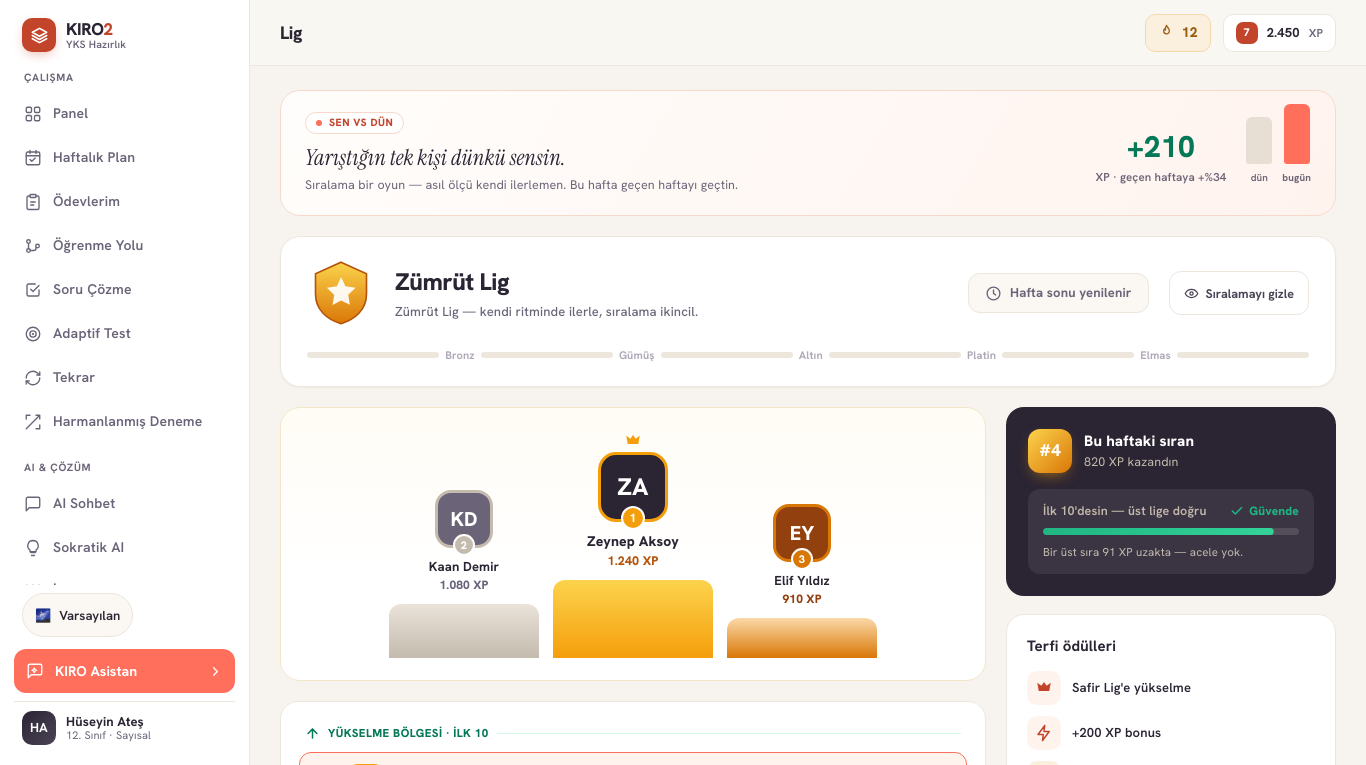
Test: LigPage › toggle: sıralamayı gizle → gizli-durum kartı + standings gizlenir + aria-live duyuru
This screenshot has width=1366, height=765.
Check: the text "Zeynep Aksoy" is shown, box [587,532,679,550]
Click the button "Sıralamayı gizle". click: (1239, 293)
box: [1168,271,1309,315]
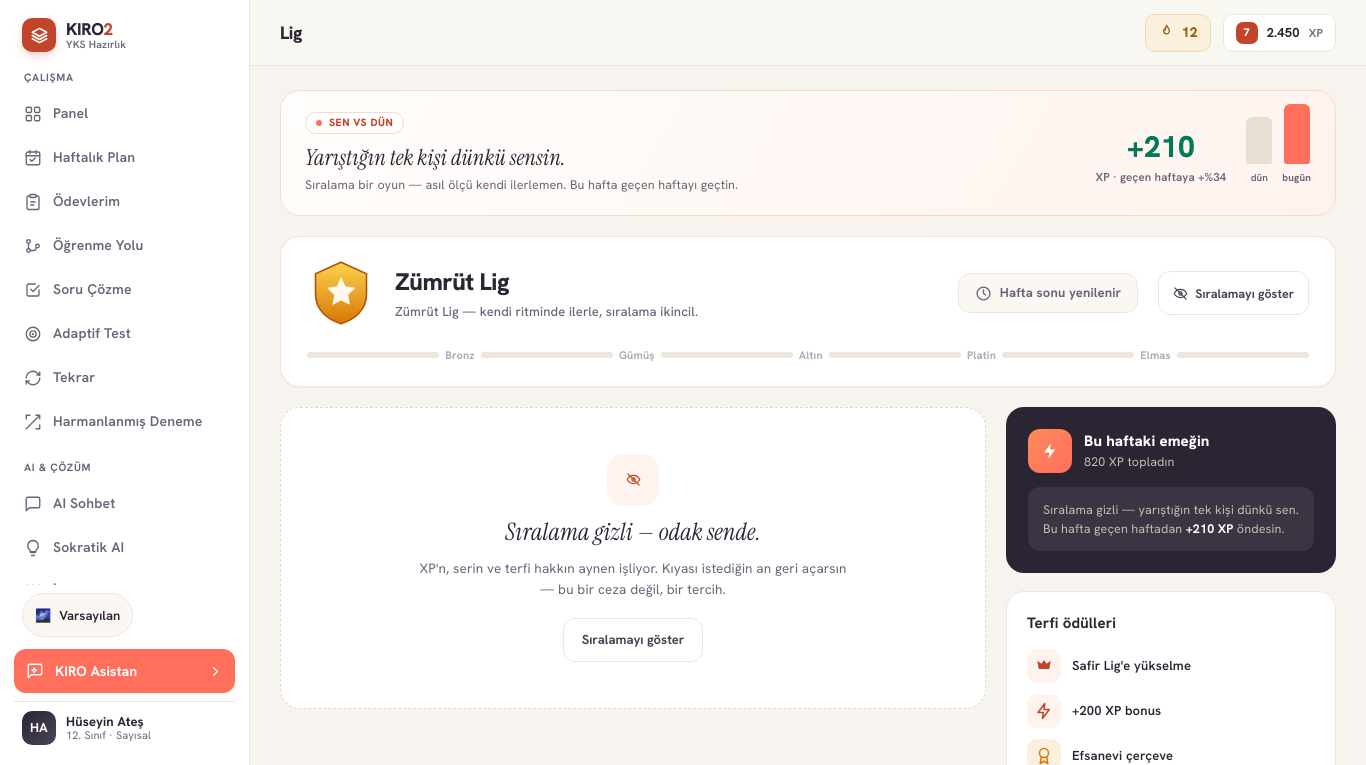
Check: the text "Sıralama gizli — odak sende." is shown, box [505,517,761,547]
Check: the text "Zeynep Aksoy" is gone
Check: the button "Sıralamayı gizle" is gone
